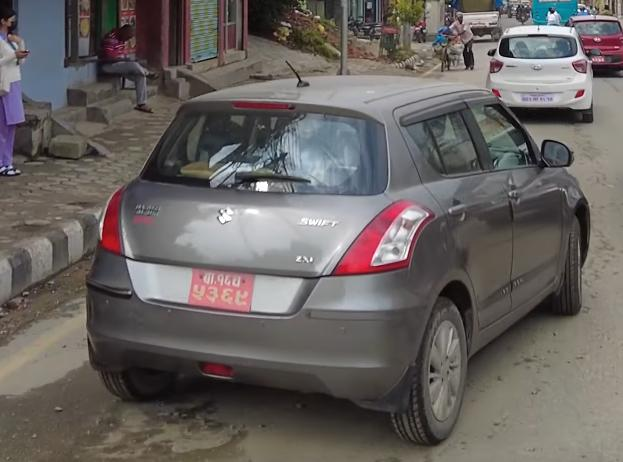car: (88, 75, 599, 445), (482, 22, 598, 123), (567, 15, 623, 76)
